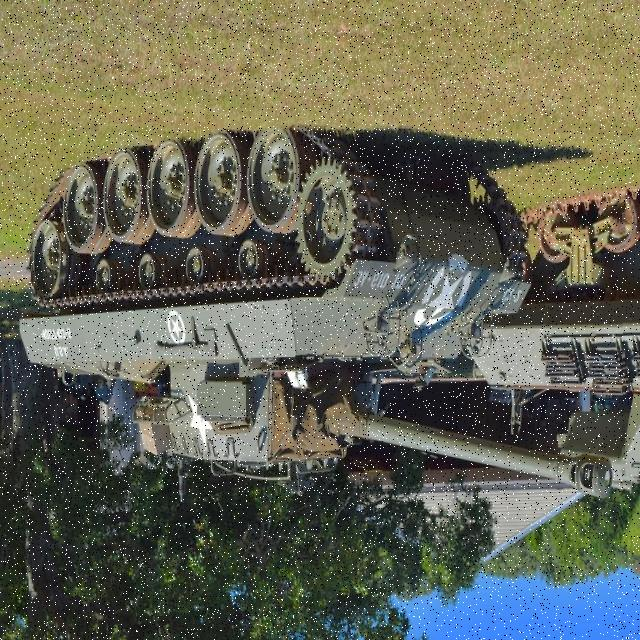MIL_MBT: (14, 127, 623, 501)
